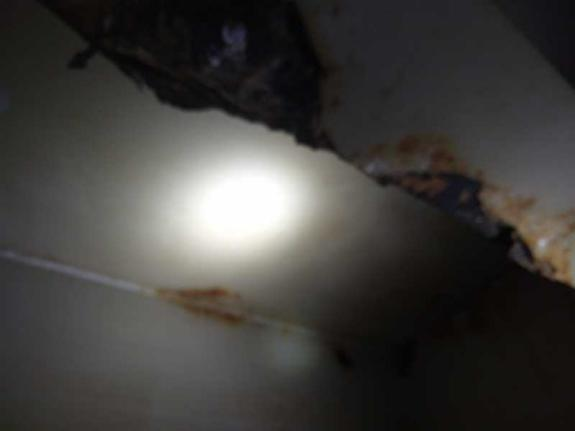corrosion: (374, 135, 575, 281), (145, 278, 262, 330)
